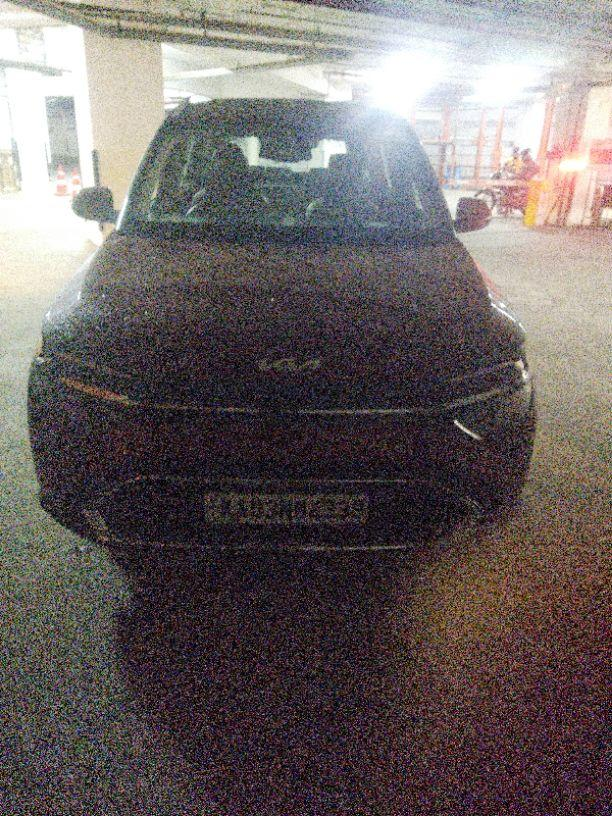license_plate: (26, 95, 538, 577), (199, 479, 424, 531)
